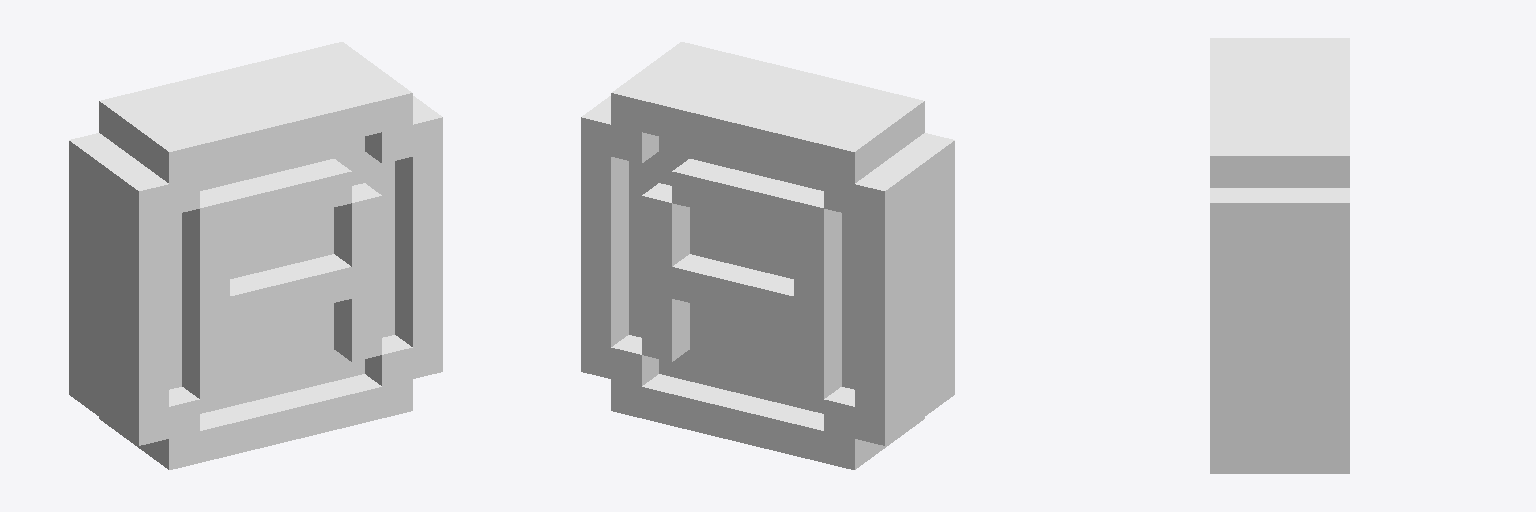
File: small_averias.obj
3 renders of one model, left to right at view 1: azimuth 30°, elevation 25°; view 2: azimuth 150°, elevation 25°; view 3: azimuth 270°, elevation 25°, orthographic.
Parts seen in each view (by area): view 1: small_averias; view 2: small_averias; view 3: small_averias.
Boxes of the visible parts, x1,y1,x2,y2 form: small_averias: [69, 42, 442, 469]; small_averias: [581, 42, 954, 469]; small_averias: [1210, 38, 1349, 473].
Bounding box in the file's own units: 10 × 10 × 4.